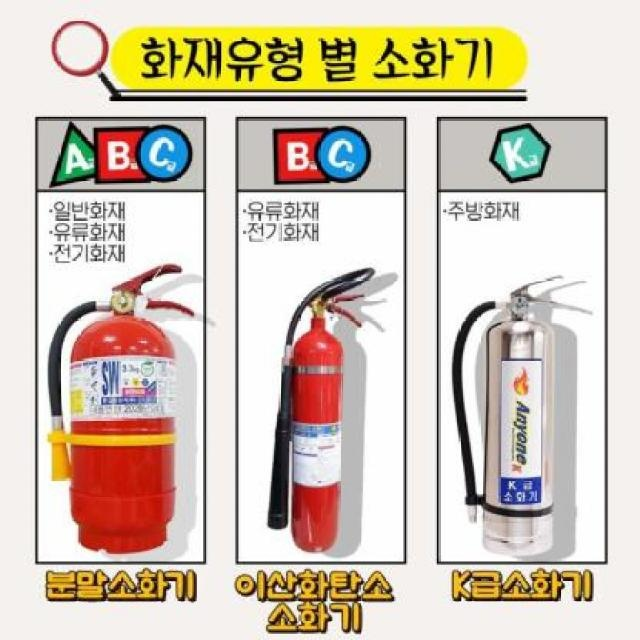fire extinguisher: (47, 264, 195, 553), (451, 275, 567, 557), (267, 267, 376, 553)
